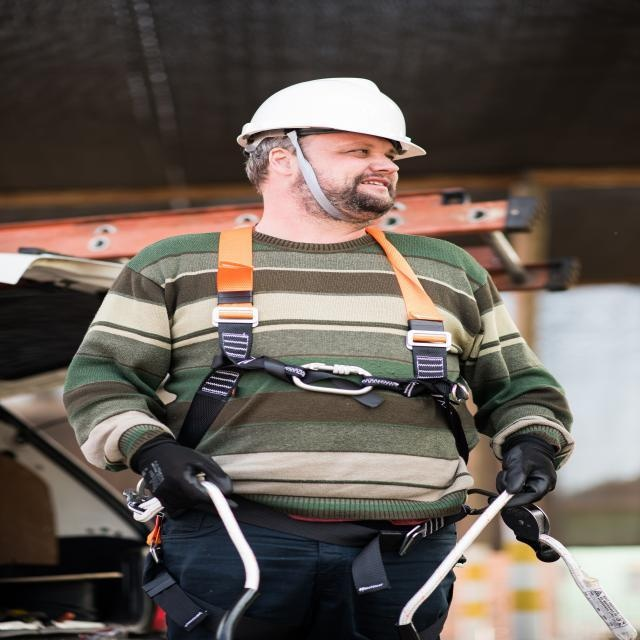Arnes_seguridad: (142, 219, 522, 640)
